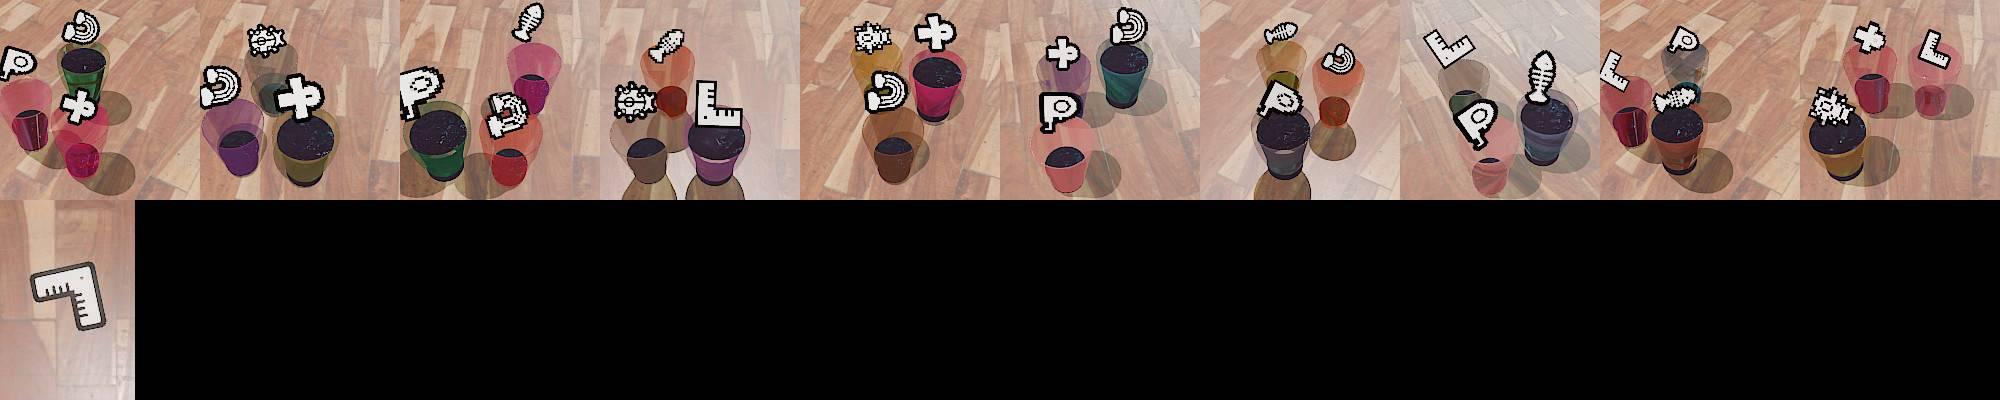icon: (28, 260, 110, 332), (397, 66, 445, 122), (1452, 94, 1500, 149), (274, 74, 327, 124), (694, 76, 742, 129), (485, 90, 532, 139), (1423, 27, 1474, 69), (1256, 78, 1306, 120), (864, 68, 907, 115), (612, 79, 658, 122), (199, 65, 241, 111), (1038, 90, 1080, 135), (913, 11, 958, 52), (1526, 50, 1559, 104), (1810, 87, 1855, 125), (1915, 28, 1954, 70), (1653, 82, 1700, 115), (1110, 5, 1148, 46), (246, 23, 288, 60), (61, 9, 101, 47), (1598, 48, 1630, 93), (60, 88, 98, 125), (1042, 34, 1080, 71), (647, 28, 685, 65), (0, 46, 38, 83), (853, 20, 894, 55), (511, 1, 545, 43), (1852, 20, 1888, 55), (1320, 42, 1355, 76), (1666, 24, 1700, 55), (1263, 20, 1297, 46)
